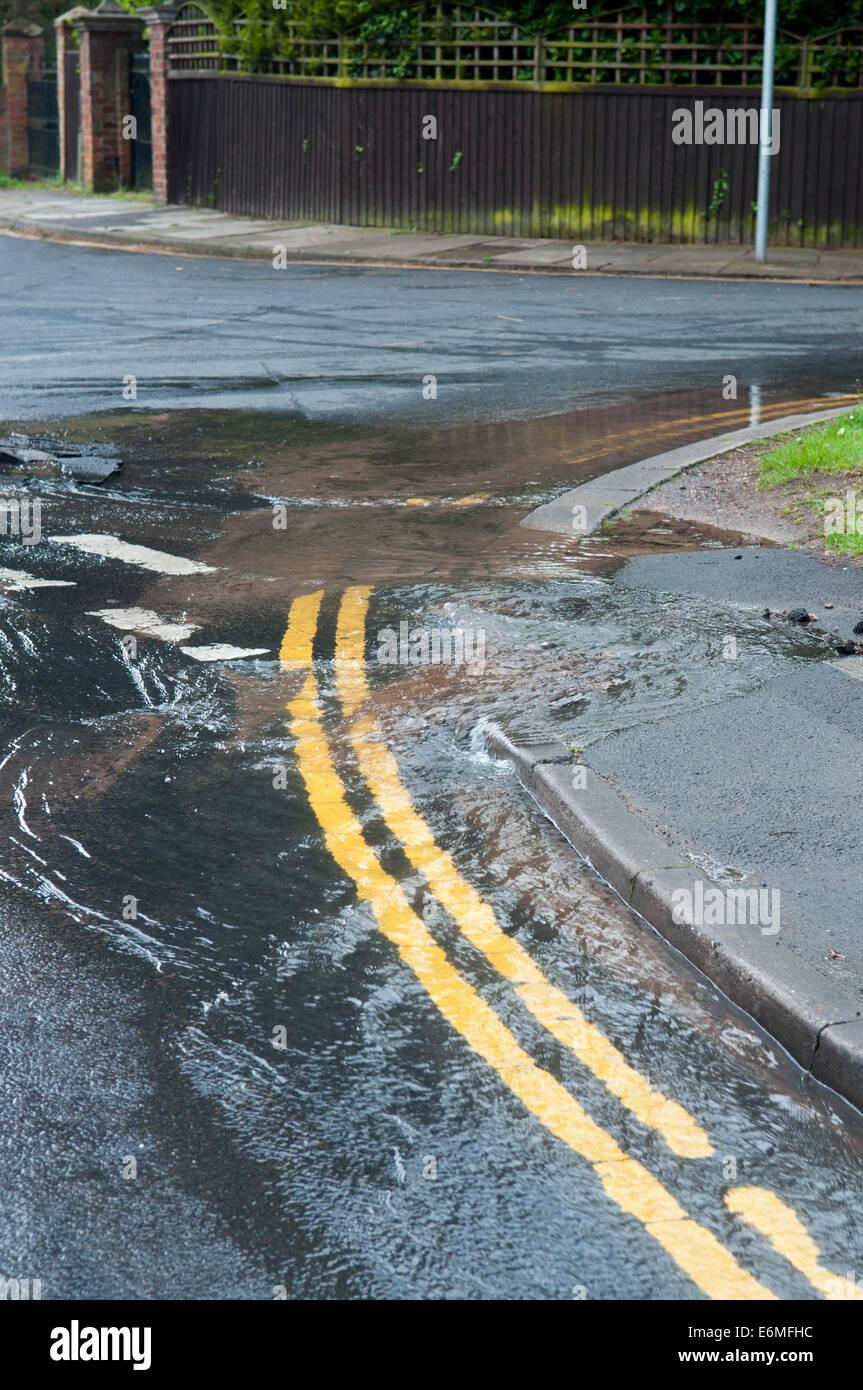water_leak: (2, 380, 860, 1299)
